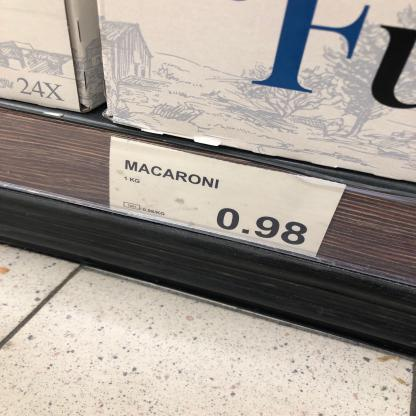prtg: (111, 138, 347, 258)
